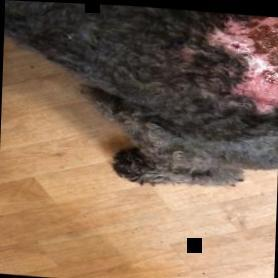skin_lesions: (199, 9, 278, 114)
